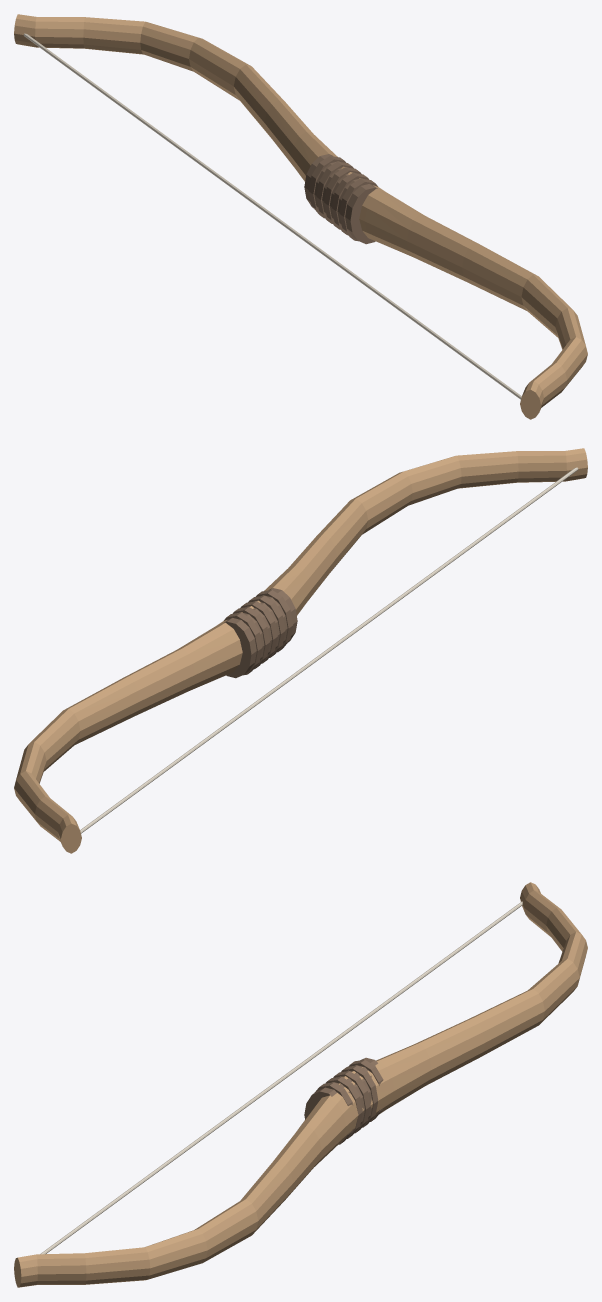
The model's file is bow_recurve.glb.
The picture shows the model from 3 angles, top to bottom: view 1: azimuth 30°, elevation 25°; view 2: azimuth 150°, elevation 25°; view 3: azimuth 330°, elevation 25°; orthographic projection.
Visible parts, largest first — view 1: Bow, String, Handle_0; view 2: Bow, String, Handle_0; view 3: Bow, String, Handle_0.
Boxes of the visible parts, box(x1,y1,x2,y2) form: Bow: box(14, 14, 587, 419); String: box(23, 33, 521, 399); Handle_0: box(304, 154, 377, 244); Bow: box(14, 448, 587, 853); String: box(80, 467, 578, 833); Handle_0: box(224, 588, 297, 678); Bow: box(14, 882, 587, 1287); String: box(40, 901, 522, 1254); Handle_0: box(304, 1057, 377, 1124).
Size of the model in its own units: 0.3033 by 0.1298 by 2.03.
